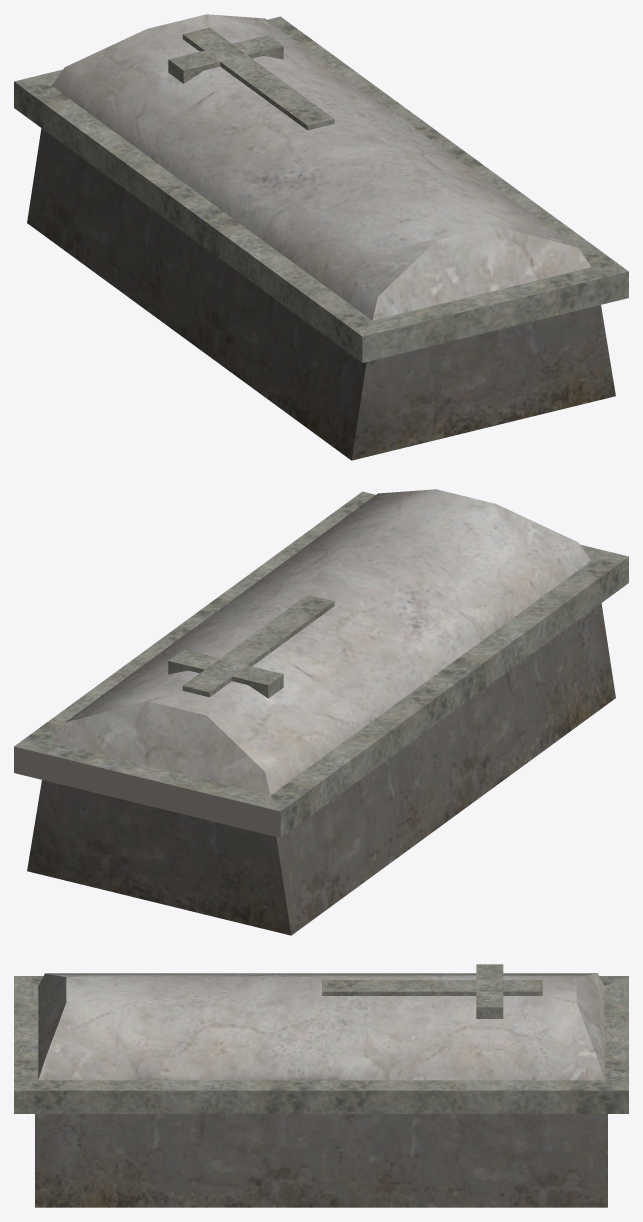
File: stone_sarcophagus.glb
3 views of the same model, one above another, from view 1: azimuth 30°, elevation 25°; view 2: azimuth 150°, elevation 25°; view 3: azimuth 270°, elevation 25° (orthographic). The views are drawn at different scales.
Visible parts, largest first — view 1: stone_sarcophagus.001, stone_sarcophagus.002; view 2: stone_sarcophagus.001, stone_sarcophagus.002; view 3: stone_sarcophagus.001, stone_sarcophagus.002.
Part boxes in pixels (bbox=[...]): stone_sarcophagus.001: bbox=[14, 14, 628, 362]; stone_sarcophagus.002: bbox=[27, 128, 615, 460]; stone_sarcophagus.001: bbox=[14, 489, 628, 837]; stone_sarcophagus.002: bbox=[27, 603, 615, 935]; stone_sarcophagus.001: bbox=[14, 964, 628, 1113]; stone_sarcophagus.002: bbox=[35, 1114, 607, 1207].
Bounding box in the file's own units: 0.9005 × 0.6037 × 2.04.
Materials: 1 (1 with a texture image).
